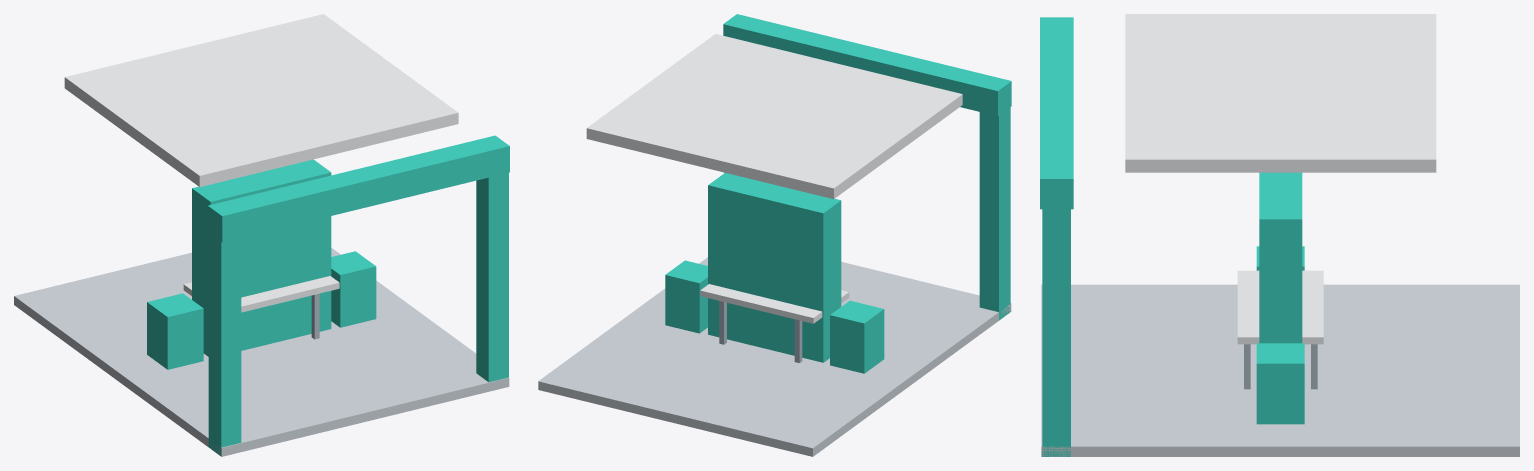
3 views of the same model, side by side, from view 1: azimuth 30°, elevation 25°; view 2: azimuth 150°, elevation 25°; view 3: azimuth 270°, elevation 25° (orthographic). The views are drawn at different scales.
Visible parts, largest first — view 1: Exhibition Booth Concept; view 2: Exhibition Booth Concept; view 3: Exhibition Booth Concept.
Boxes of the visible parts, x1,y1,x2,y2 form: Exhibition Booth Concept: (14,14,509,456); Exhibition Booth Concept: (538,14,1011,456); Exhibition Booth Concept: (1040,14,1519,456).
Bounding box in the file's own units: 4 × 3.34 × 5.02.
